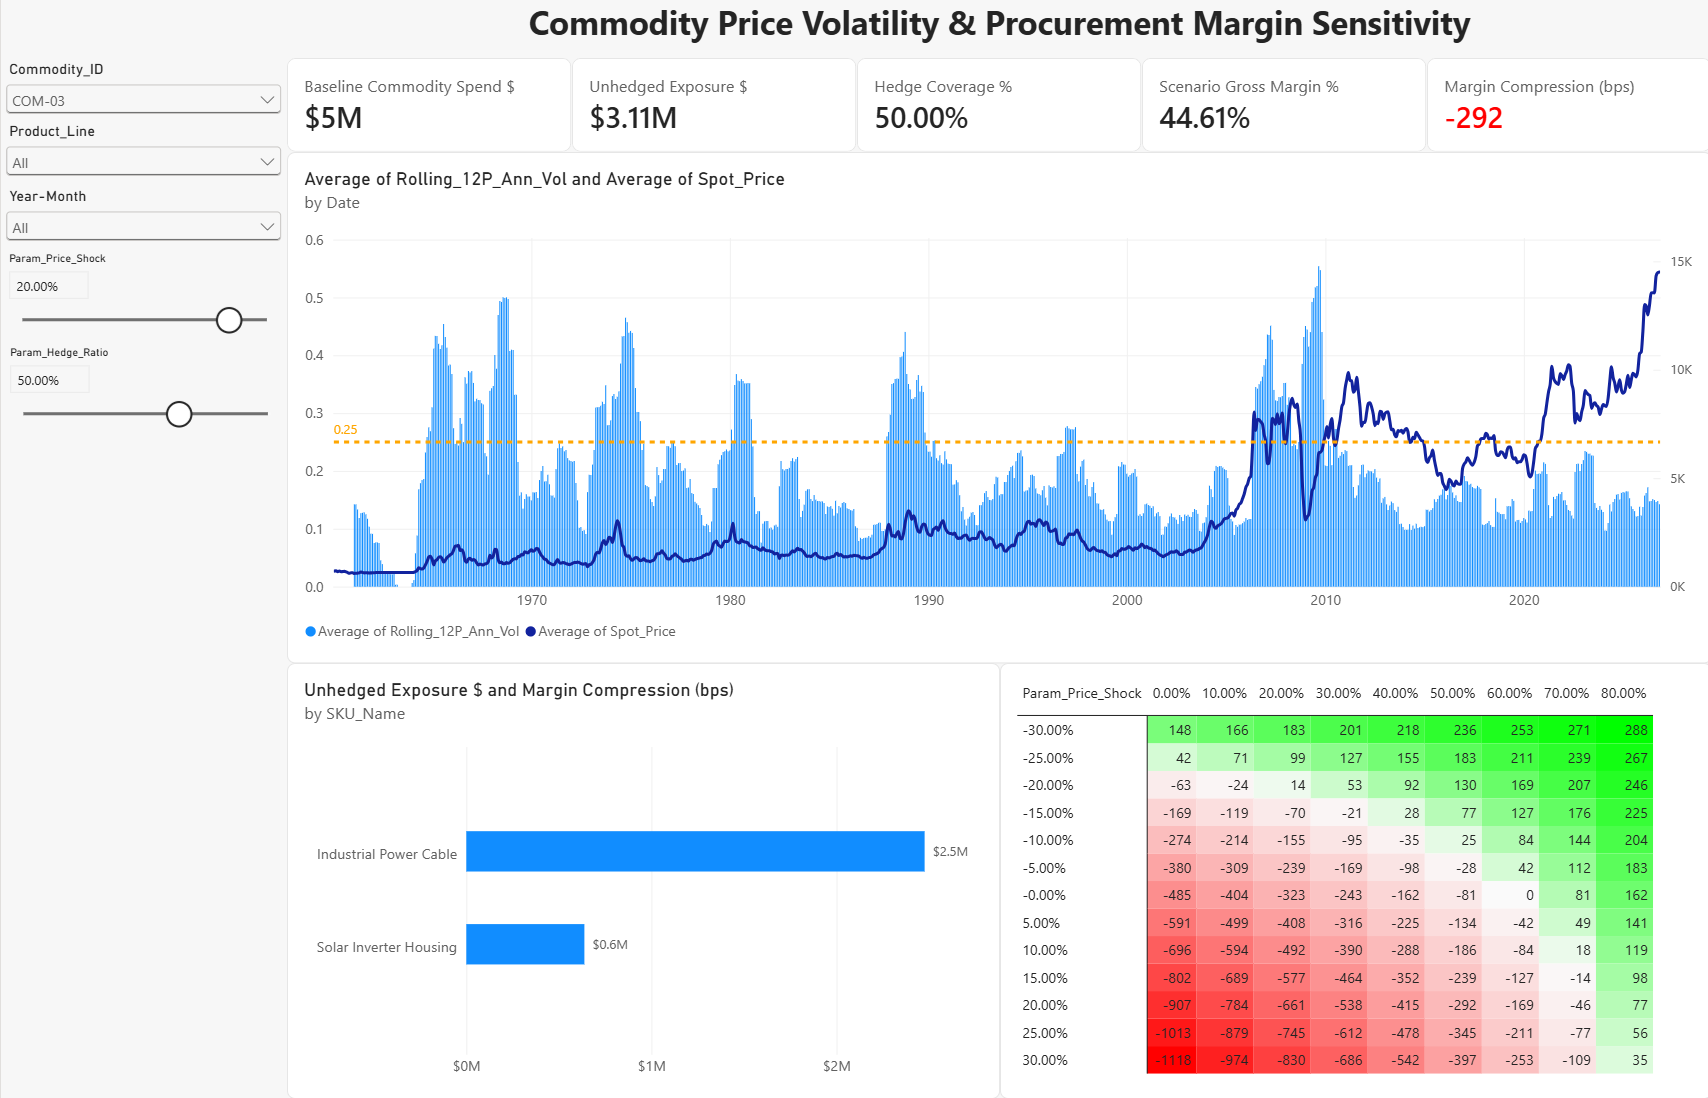

Layout of this report page (visuals, bound fields, positions):
{"tool":"powerbi","page":{"name":"Page 1","canvas":[1920,1080],"ordinal":0},"visuals":[{"type":"slicer","fields":{"Values":["Dim_Commodity.Commodity_ID"]},"box":[0,60.9,279.8,60.9],"z":2000},{"type":"slicer","fields":{"Values":["Dim_SKU.Product_Line"]},"box":[0,121.7,279.8,63.8],"z":3000},{"type":"slicer","fields":{"Values":["Dim_Date.Year-Month"]},"box":[0,185.5,279.8,62.8],"z":4000},{"type":"slicer","fields":{"Values":["Param_Price_Shock.Param_Price_Shock"]},"box":[0,248.3,279.8,92.3],"z":5000},{"type":"slicer","fields":{"Values":["Param_Hedge_Ratio.Param_Hedge_Ratio"]},"box":[1,340.6,279.8,124.7],"z":6000},{"type":"cardVisual","fields":{"Data":["_Measure.Baseline Commodity Spend $"]},"box":[280.7,57.9,279.8,92.3],"z":7000},{"type":"cardVisual","fields":{"Data":["_Measure.Unhedged Exposure $"]},"box":[560.5,57.9,279.8,92.3],"z":8000},{"type":"cardVisual","fields":{"Data":["_Measure.Hedge Coverage %"]},"box":[840.2,57.9,279.8,92.3],"z":9000},{"type":"cardVisual","fields":{"Data":["_Measure.Scenario Gross Margin %"]},"box":[1120,57.9,279.8,92.3],"z":10000},{"type":"cardVisual","fields":{"Data":["_Measure.Margin Compression (bps)"]},"box":[1399.8,57.9,279.8,92.3],"z":11000},{"type":"lineClusteredColumnComboChart","fields":{"Category":["Dim_Date.Date"],"Y":["Avg(Fact_Prices.Rolling_12P_Ann_Vol)"],"Y2":["Avg(Fact_Prices.Spot_Price)"]},"box":[280.7,150.2,1398.8,501.6],"z":12000},{"type":"clusteredBarChart","fields":{"Category":["Dim_SKU.SKU_Name"],"Y":["_Measure.Unhedged Exposure $"]},"box":[280.7,651.8,699.9,428],"z":13000},{"type":"pivotTable","fields":{"Columns":["Param_Hedge_Ratio.Param_Hedge_Ratio"],"Rows":["Param_Price_Shock.Param_Price_Shock"],"Values":["_Measure.Margin Compression (bps)"]},"box":[980.6,651.8,698.9,428],"z":14000},{"type":"textbox","box":[280.7,0,1398.8,57.9],"z":14001}]}

Visuals, with their boxes on the page's 1920x1080 design canvas (x1, y1, x2, y2). These are canvas units, not pixel positions in the 1708x1098 screenshot, which may show the page scaled, cropped or inside an application window:
slicer - Dim_Commodity.Commodity_ID: bbox=[0, 61, 280, 122]
slicer - Dim_SKU.Product_Line: bbox=[0, 122, 280, 186]
slicer - Dim_Date.Year-Month: bbox=[0, 186, 280, 248]
slicer - Param_Price_Shock.Param_Price_Shock: bbox=[0, 248, 280, 341]
slicer - Param_Hedge_Ratio.Param_Hedge_Ratio: bbox=[1, 341, 281, 465]
cardVisual - _Measure.Baseline Commodity Spend $: bbox=[281, 58, 560, 150]
cardVisual - _Measure.Unhedged Exposure $: bbox=[560, 58, 840, 150]
cardVisual - _Measure.Hedge Coverage %: bbox=[840, 58, 1120, 150]
cardVisual - _Measure.Scenario Gross Margin %: bbox=[1120, 58, 1400, 150]
cardVisual - _Measure.Margin Compression (bps): bbox=[1400, 58, 1680, 150]
lineClusteredColumnComboChart - Dim_Date.Date x Avg(Fact_Prices.Rolling_12P_Ann_Vol): bbox=[281, 150, 1680, 652]
clusteredBarChart - Dim_SKU.SKU_Name x _Measure.Unhedged Exposure $: bbox=[281, 652, 981, 1080]
pivotTable - Param_Hedge_Ratio.Param_Hedge_Ratio x Param_Price_Shock.Param_Price_Shock: bbox=[981, 652, 1680, 1080]
textbox: bbox=[281, 0, 1680, 58]
